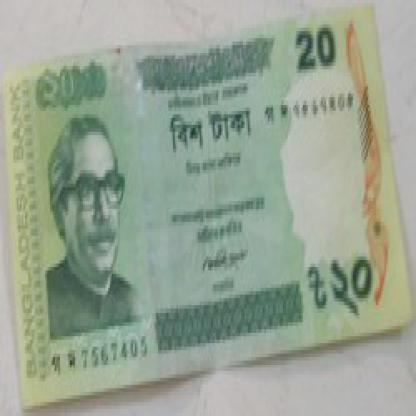Twenty: (310, 232, 376, 319), (168, 107, 255, 163), (286, 20, 343, 86), (37, 73, 118, 118)
